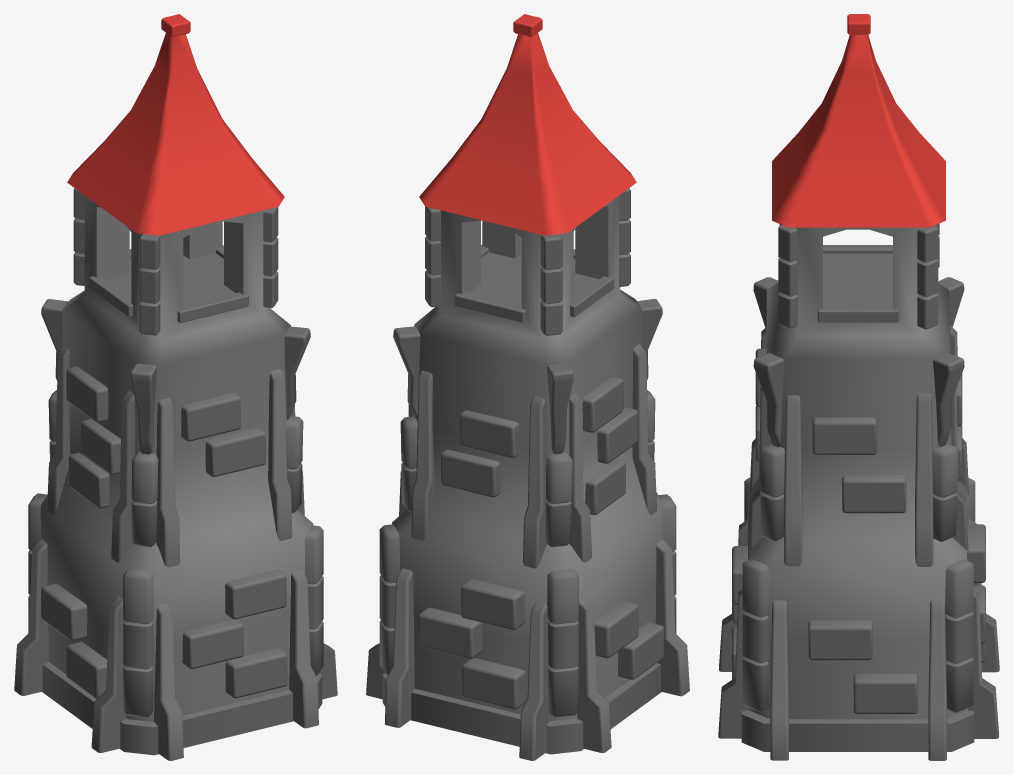
The model's file is Tower_Square_Tall.fbx.
3 renders of one model, left to right at view 1: azimuth 30°, elevation 25°; view 2: azimuth 150°, elevation 25°; view 3: azimuth 270°, elevation 25°, orthographic.
Parts seen in each view (by area): view 1: Tower_Square_Tall.001_0; view 2: Tower_Square_Tall.001_0; view 3: Tower_Square_Tall.001_0.
Boxes of the visible parts, x1=… form: Tower_Square_Tall.001_0: x1=14, y1=14, x2=337, y2=760; Tower_Square_Tall.001_0: x1=366, y1=14, x2=689, y2=760; Tower_Square_Tall.001_0: x1=718, y1=14, x2=999, y2=760.
Size of the model in its own units: 4.22 by 11.33 by 4.22.
